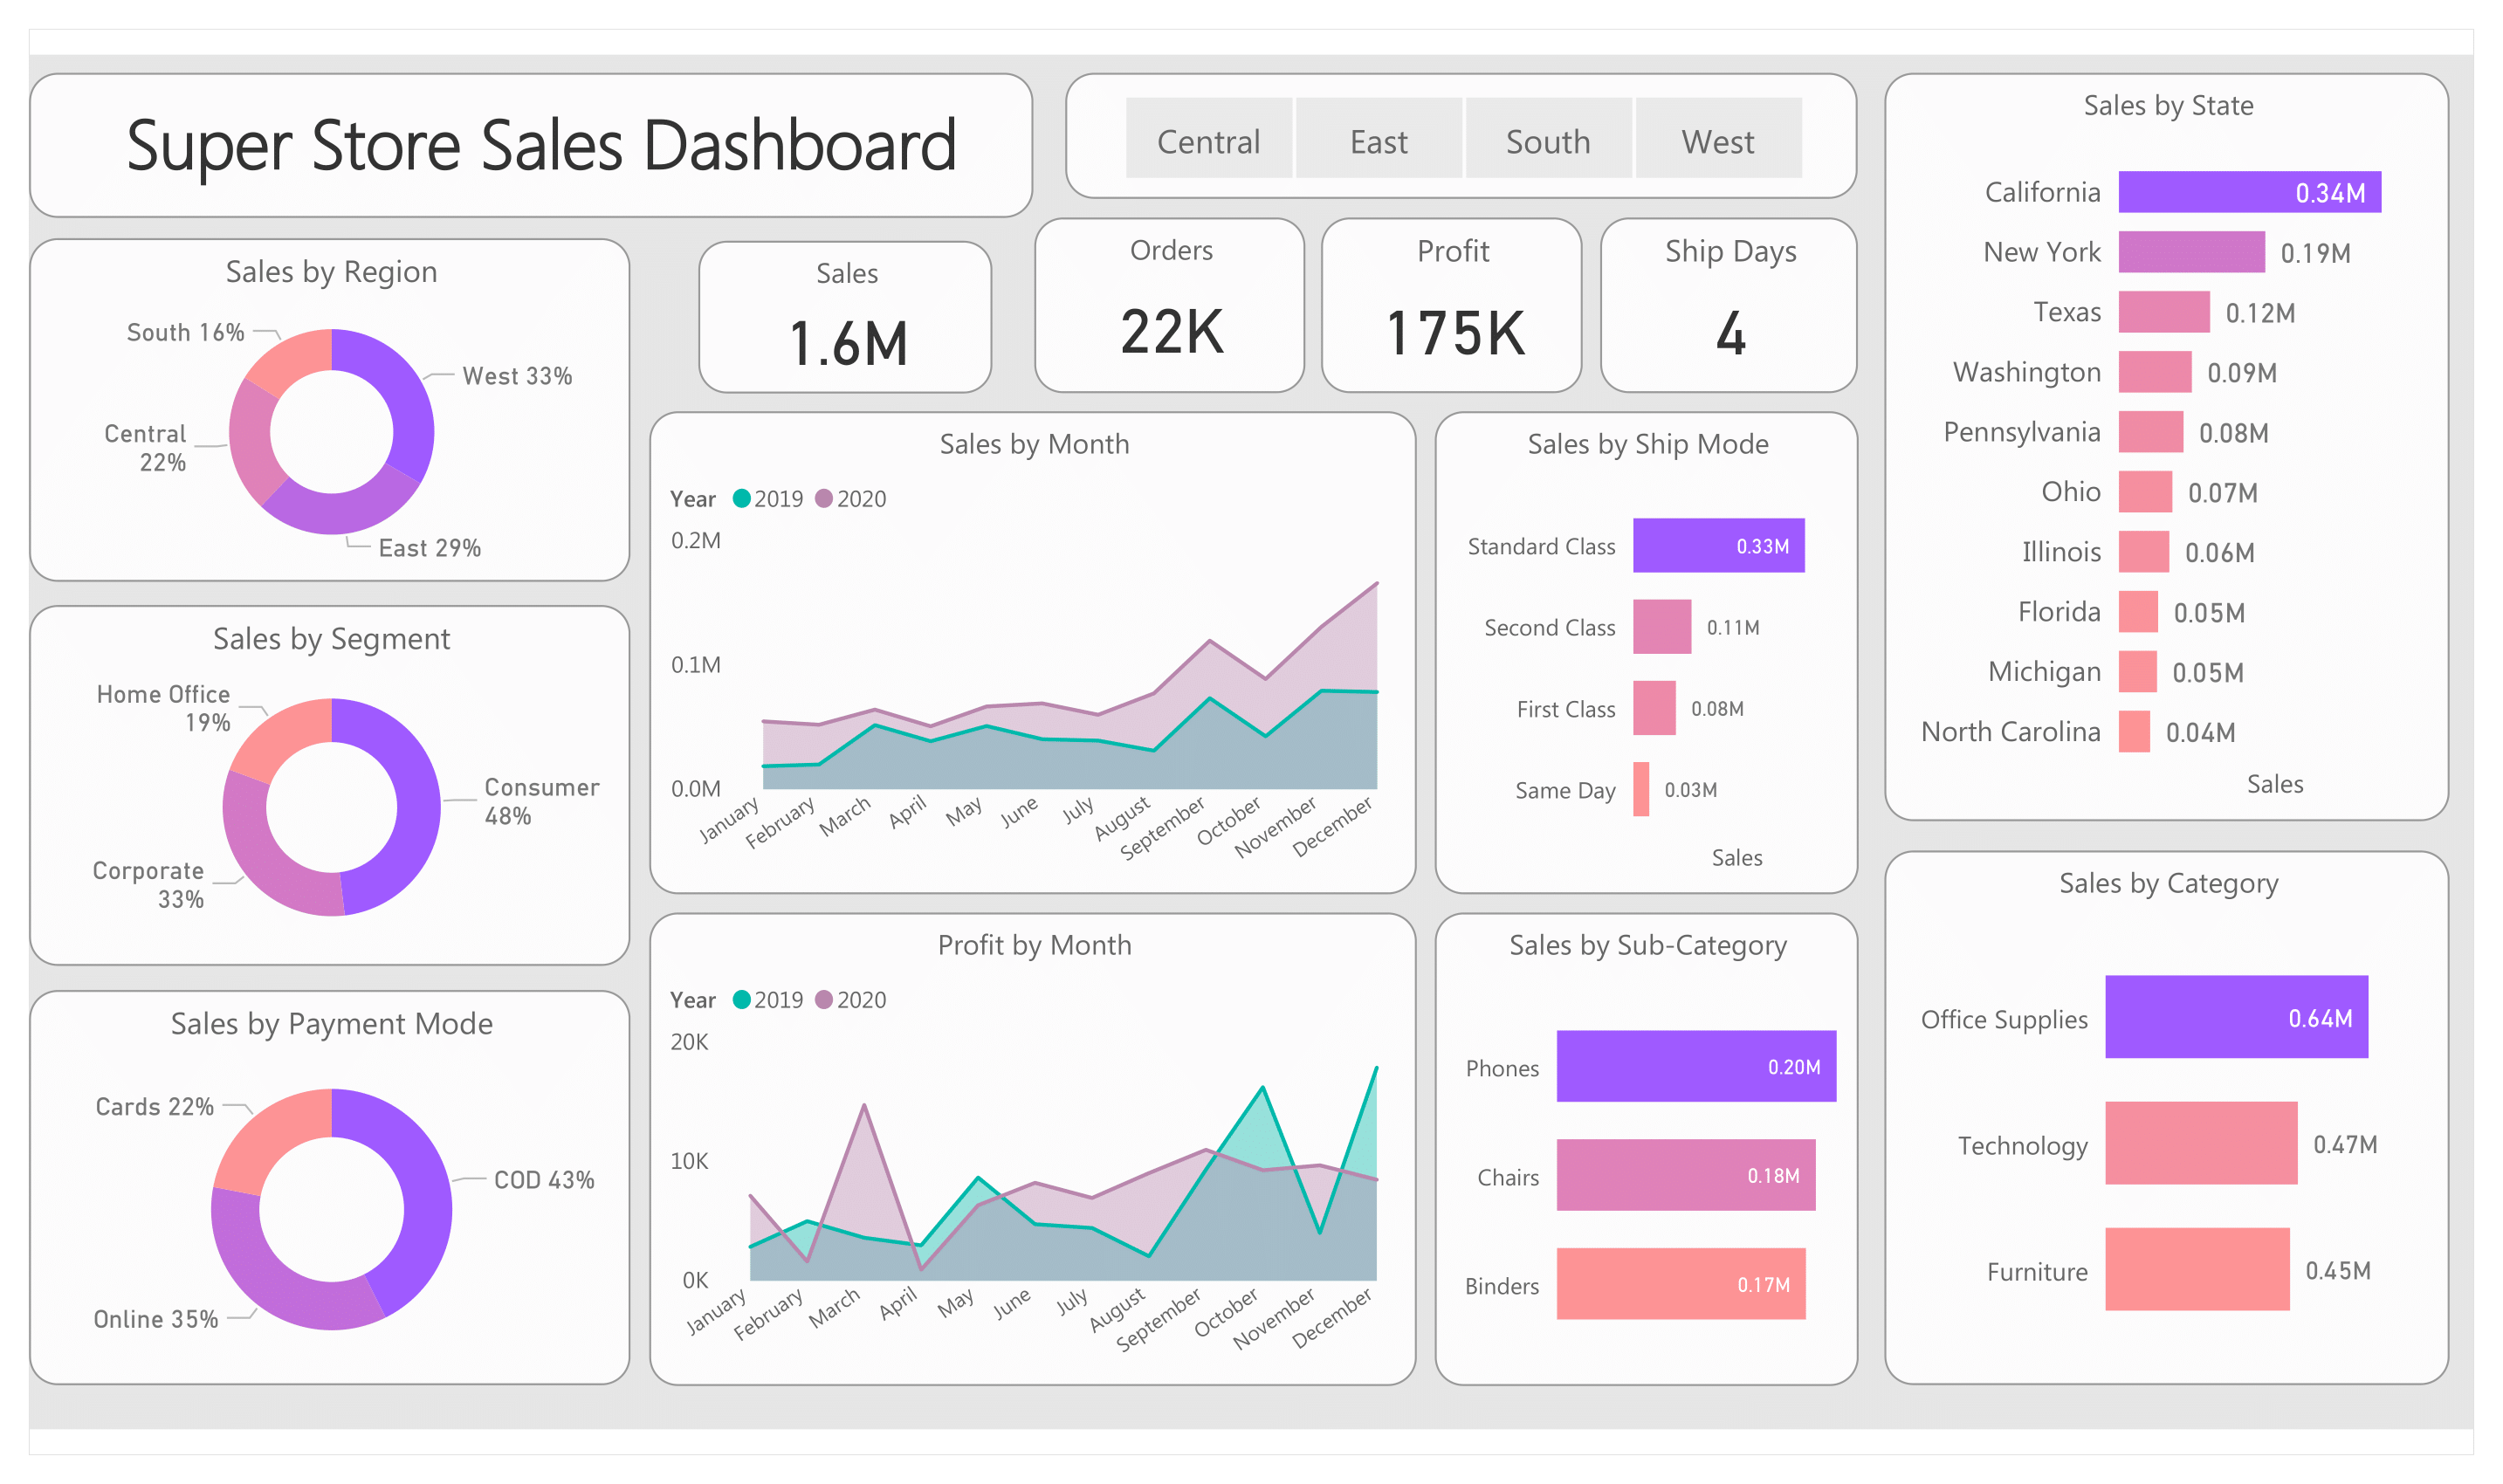

The page's visual inventory and layout, read from the dashboard file:
{"tool":"powerbi","page":{"name":"Page 1","canvas":[1280,720],"ordinal":0},"visuals":[{"type":"clusteredBarChart","fields":{"Category":["SuperStore_Sales_Dataset.Category"],"Y":["Sum(SuperStore_Sales_Dataset.Sales)"]},"box":[971.7,416.8,296.4,280.2],"z":0},{"type":"slicer","fields":{"Values":["SuperStore_Sales_Dataset.Region"]},"box":[542.7,9.5,415.5,66.3],"z":1000},{"type":"textbox","box":[0,9.5,526.5,75.8],"z":2000},{"type":"card","title":"Sales","fields":{"Values":["Sum(SuperStore_Sales_Dataset.Sales)"]},"box":[350.5,97.4,154.3,79.8],"z":3000},{"type":"donutChart","fields":{"Y":["Sum(SuperStore_Sales_Dataset.Sales)"],"Category":["SuperStore_Sales_Dataset.Segment"]},"box":[0,288.3,315.3,189.5],"z":4000},{"type":"areaChart","title":"Sales by Month","fields":{"Y":["Sum(SuperStore_Sales_Dataset.Sales)"],"Category":["SuperStore_Sales_Dataset.Order Date.Variation.Date Hierarchy.Month","SuperStore_Sales_Dataset.Order Date.Variation.Date Hierarchy.Day"],"Series":["SuperStore_Sales_Dataset.Order Date.Variation.Date Hierarchy.Year"]},"box":[324.8,186.8,402,253.1],"z":5000},{"type":"clusteredBarChart","fields":{"Category":["SuperStore_Sales_Dataset.Sub-Category"],"Y":["Sum(SuperStore_Sales_Dataset.Sales)"]},"box":[736.2,449.3,222,247.7],"z":6000},{"type":"clusteredBarChart","fields":{"Y":["Sum(SuperStore_Sales_Dataset.Sales)"],"Category":["SuperStore_Sales_Dataset.Ship Mode"]},"box":[736.2,186.8,222,253.1],"z":7000},{"type":"areaChart","title":"Profit by Month","fields":{"Category":["SuperStore_Sales_Dataset.Order Date.Variation.Date Hierarchy.Month","SuperStore_Sales_Dataset.Order Date.Variation.Date Hierarchy.Day"],"Series":["SuperStore_Sales_Dataset.Order Date.Variation.Date Hierarchy.Year"],"Y":["Sum(SuperStore_Sales_Dataset.Profit)"]},"box":[324.8,449.3,402,247.7],"z":8000},{"type":"donutChart","fields":{"Y":["Sum(SuperStore_Sales_Dataset.Sales)"],"Category":["SuperStore_Sales_Dataset.Payment Mode"]},"box":[0,489.9,315.3,207.1],"z":9000},{"type":"card","title":"Orders","fields":{"Values":["Sum(SuperStore_Sales_Dataset.Quantity)"]},"box":[526.5,85.3,142.1,92],"z":10000},{"type":"card","title":"Profit","fields":{"Values":["Sum(SuperStore_Sales_Dataset.Profit)"]},"box":[676.7,85.3,136.7,92],"z":11000},{"type":"card","title":"Ship Days","fields":{"Values":["Avg(SuperStore_Sales_Dataset.AvgDelivery)"]},"box":[822.9,85.3,135.3,92],"z":12000},{"type":"donutChart","fields":{"Y":["Sum(SuperStore_Sales_Dataset.Sales)"],"Category":["SuperStore_Sales_Dataset.Region"]},"box":[0,96.1,315.3,180],"z":13000},{"type":"clusteredBarChart","fields":{"Y":["Sum(SuperStore_Sales_Dataset.Sales)"],"Category":["SuperStore_Sales_Dataset.State"]},"box":[971.7,9.5,296.4,392.5],"z":14000}]}

Visuals, with their boxes on the page's 1280x720 design canvas (x1, y1, x2, y2). These are canvas units, not pixel positions in the 2503x1484 screenshot, which may show the page scaled, cropped or inside an application window:
clusteredBarChart - SuperStore_Sales_Dataset.Category x Sum(SuperStore_Sales_Dataset.Sales): <region>972, 417, 1268, 697</region>
slicer - SuperStore_Sales_Dataset.Region: <region>543, 10, 958, 76</region>
textbox: <region>0, 10, 526, 85</region>
"Sales" card: <region>350, 97, 505, 177</region>
donutChart - Sum(SuperStore_Sales_Dataset.Sales) x SuperStore_Sales_Dataset.Segment: <region>0, 288, 315, 478</region>
"Sales by Month" areaChart: <region>325, 187, 727, 440</region>
clusteredBarChart - SuperStore_Sales_Dataset.Sub-Category x Sum(SuperStore_Sales_Dataset.Sales): <region>736, 449, 958, 697</region>
clusteredBarChart - Sum(SuperStore_Sales_Dataset.Sales) x SuperStore_Sales_Dataset.Ship Mode: <region>736, 187, 958, 440</region>
"Profit by Month" areaChart: <region>325, 449, 727, 697</region>
donutChart - Sum(SuperStore_Sales_Dataset.Sales) x SuperStore_Sales_Dataset.Payment Mode: <region>0, 490, 315, 697</region>
"Orders" card: <region>526, 85, 669, 177</region>
"Profit" card: <region>677, 85, 813, 177</region>
"Ship Days" card: <region>823, 85, 958, 177</region>
donutChart - Sum(SuperStore_Sales_Dataset.Sales) x SuperStore_Sales_Dataset.Region: <region>0, 96, 315, 276</region>
clusteredBarChart - Sum(SuperStore_Sales_Dataset.Sales) x SuperStore_Sales_Dataset.State: <region>972, 10, 1268, 402</region>
